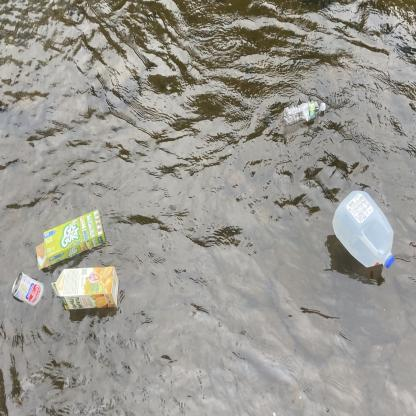trash: (330, 187, 399, 275), (32, 206, 110, 278), (45, 264, 123, 316), (278, 94, 330, 126), (9, 272, 46, 308)
